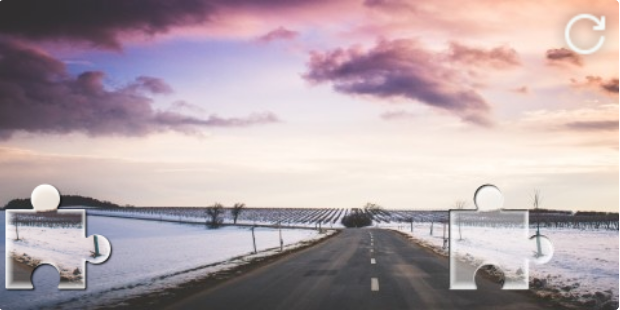target: (449, 184, 554, 289)
